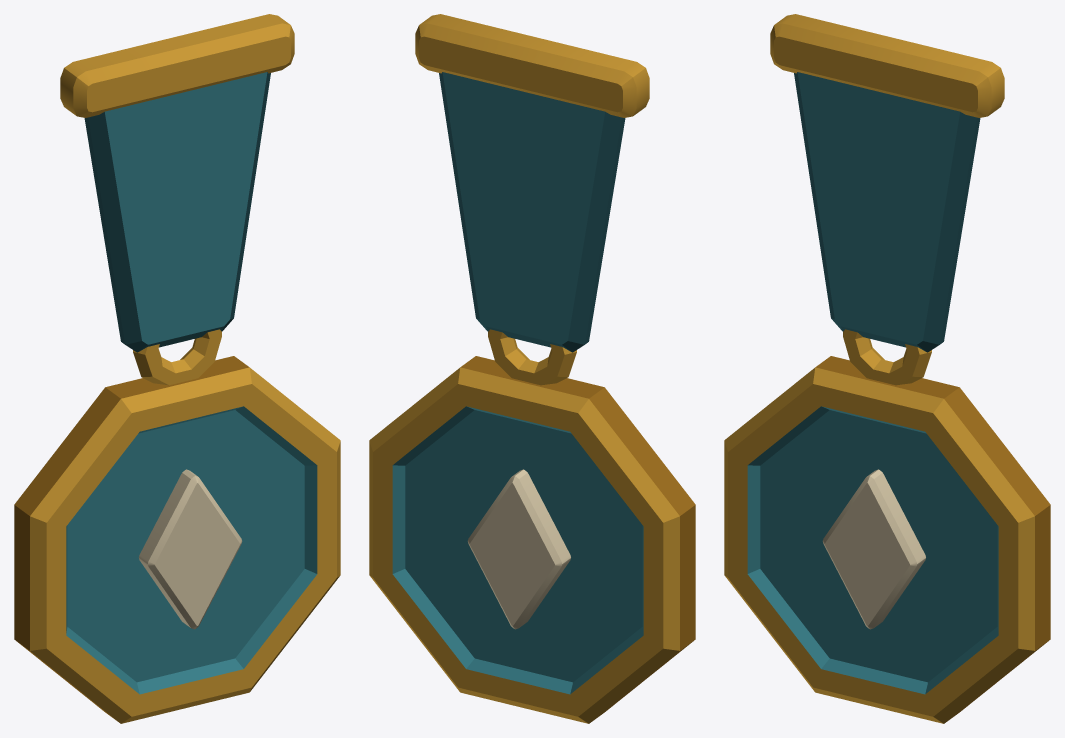
The model's file is Medal_17.glb.
The picture shows the model from 3 angles, left to right: view 1: azimuth 30°, elevation 25°; view 2: azimuth 150°, elevation 25°; view 3: azimuth 330°, elevation 25°; orthographic projection.
Visible parts, largest first — view 1: Medal_17; view 2: Medal_17; view 3: Medal_17.
Part boxes in pixels (left/top/right/bottom): Medal_17: left=14, top=14, right=340, bottom=723; Medal_17: left=369, top=14, right=695, bottom=723; Medal_17: left=724, top=14, right=1050, bottom=723.
Size of the model in its own units: 1.25 by 2.54 by 0.28.
